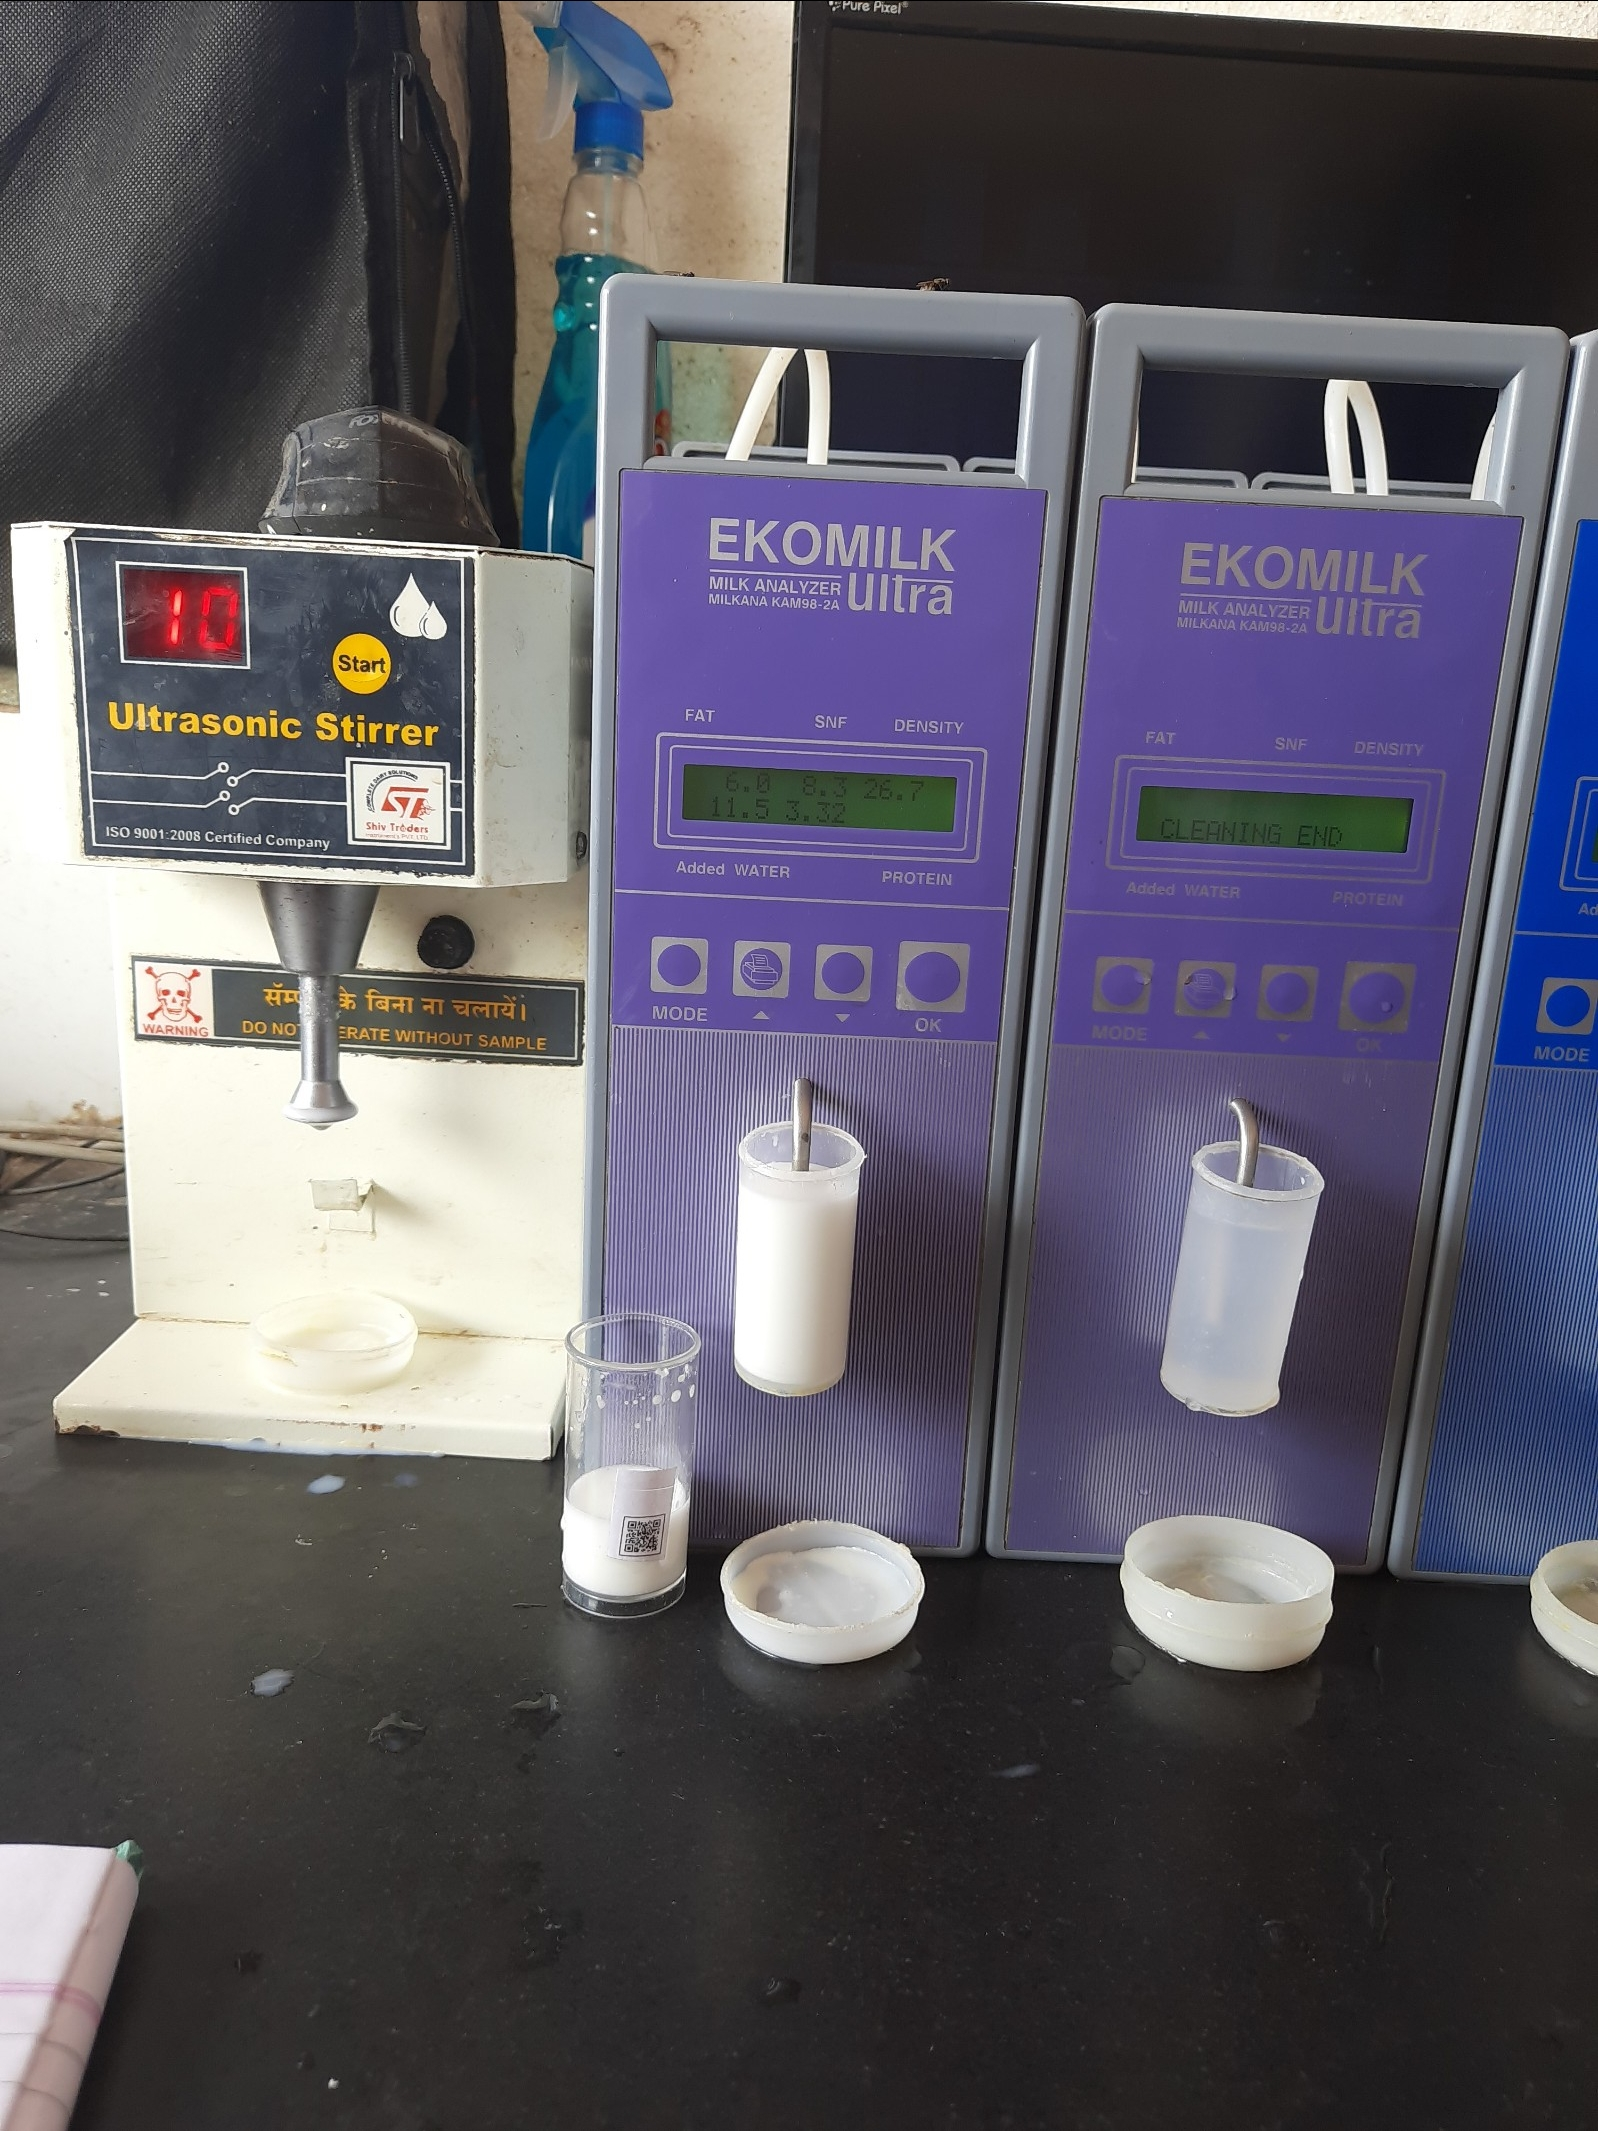lcd: (675, 745, 969, 842), (1130, 780, 1422, 866)
qr: (613, 1507, 676, 1566)
